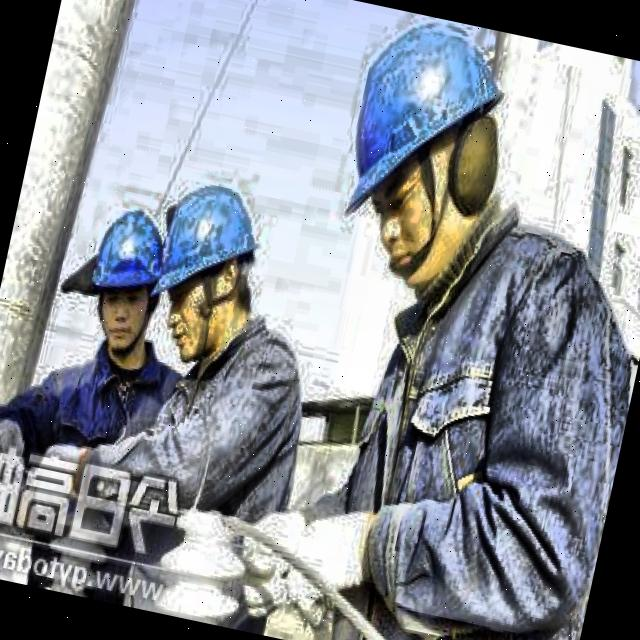helmet: (300, 6, 536, 315), (136, 165, 274, 377), (68, 188, 182, 366)
